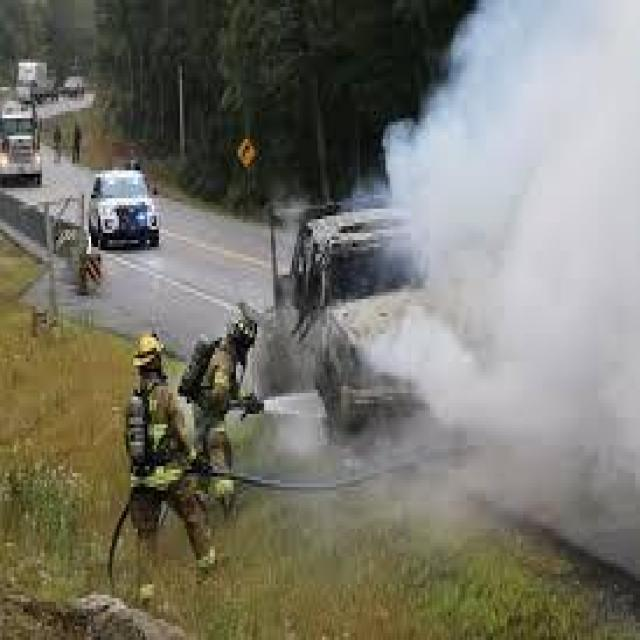smoke: (456, 1, 634, 506)
